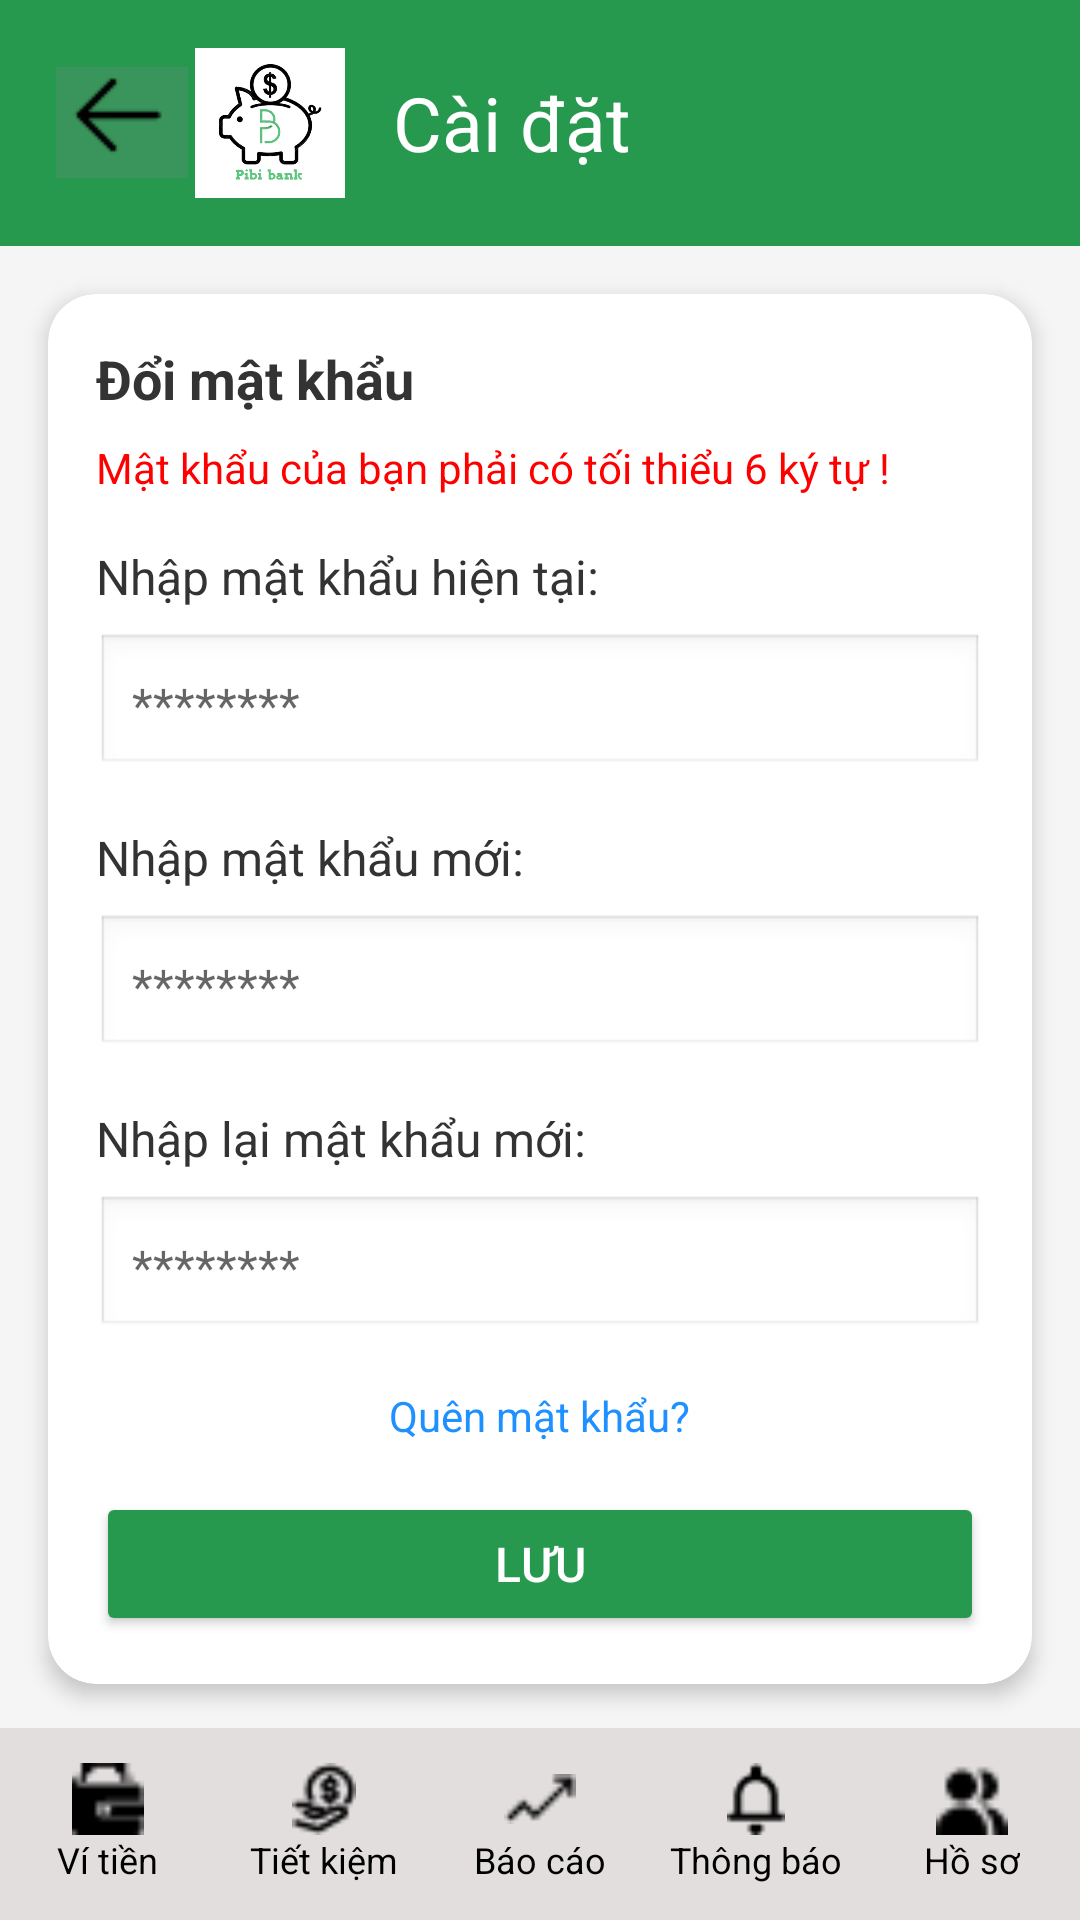

Where icons sit on this 1080px x 1920px app screen, as (x1, y1, x2, y2):
muiten: (56, 67, 188, 178)
